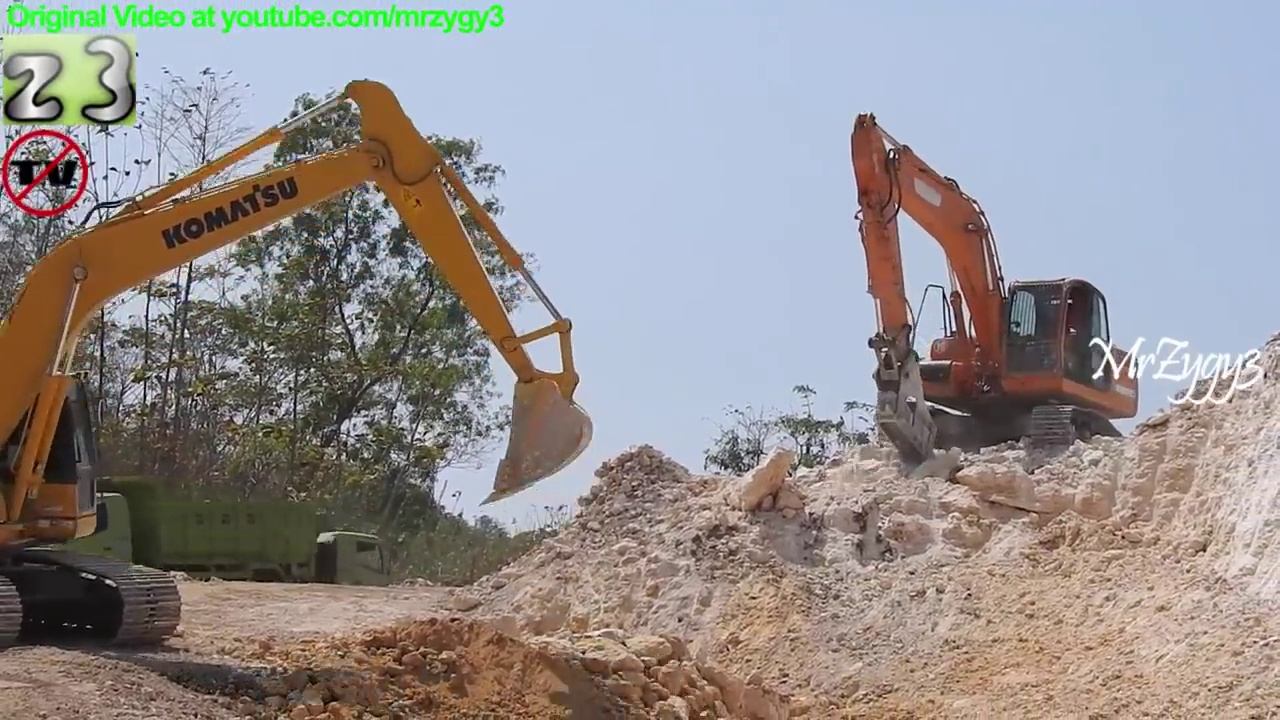excavator: (1, 72, 602, 662), (841, 103, 1153, 485)
truck: (22, 469, 323, 609), (146, 523, 395, 616)
